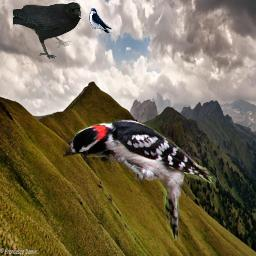Crow: (13, 2, 81, 59)
Swallow: (89, 8, 112, 33)
Woodpecker: (63, 118, 217, 244)
